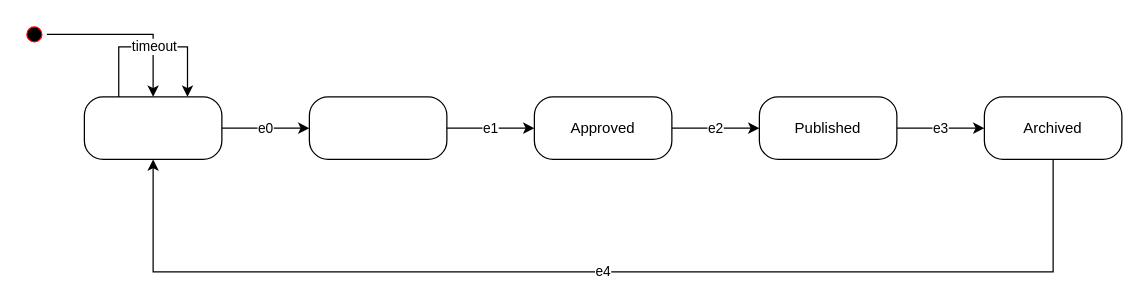
Some shapes in this 1144 by 304 pixel diagram are drawn without their labels. The box of each missing label's shape, as (x1, y1, x2, y2) in pixels:
Draft: (83, 96, 222, 159)
Review: (308, 96, 447, 159)
